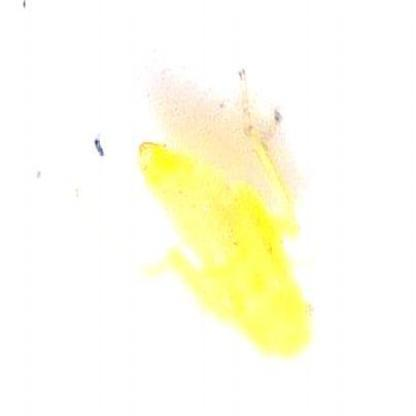green-leafhopper: (141, 134, 318, 358)
